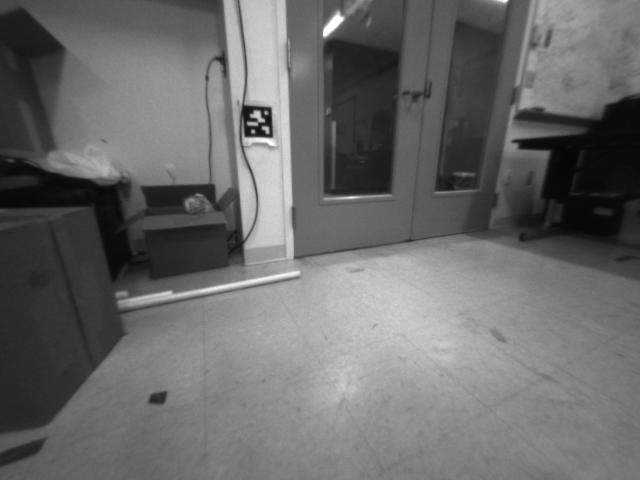door_handle: (400, 84, 424, 105)
